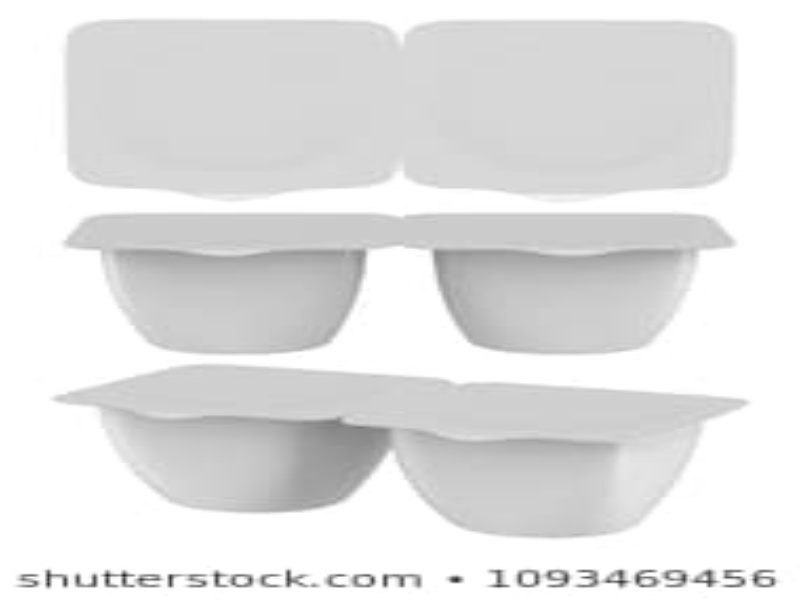yogurt-cup: (387, 370, 749, 542), (400, 203, 737, 359), (64, 200, 394, 359), (60, 368, 386, 522)
